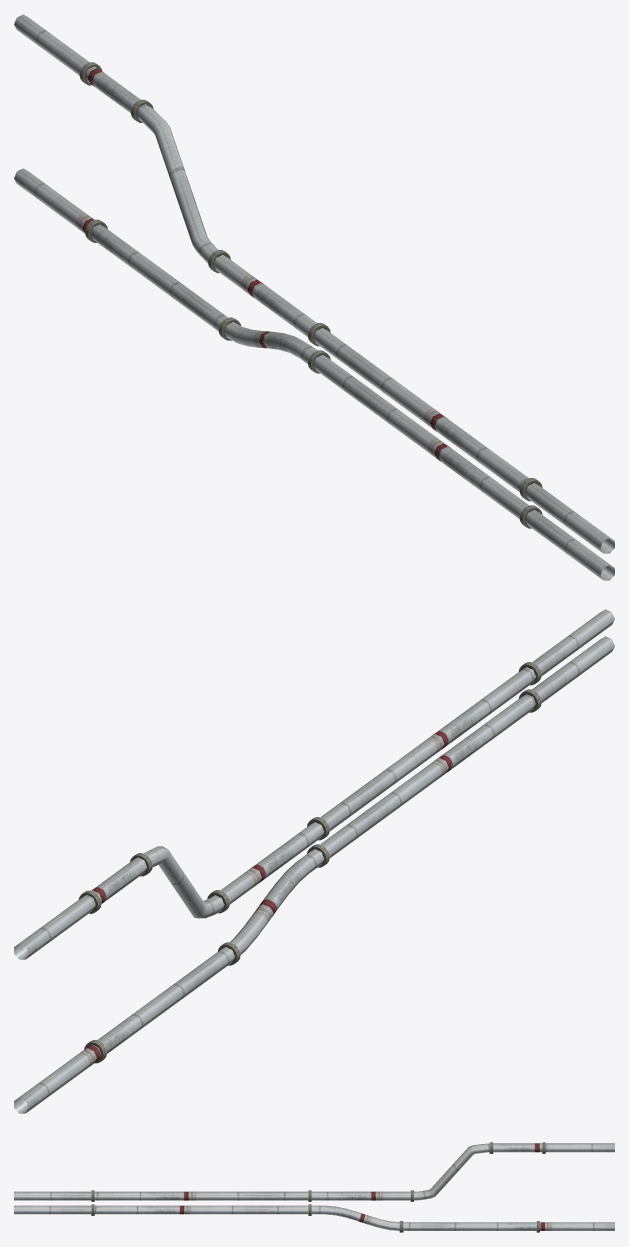
Rendered from EQP_PIPES018.FBX.
3 views of the same model, one above another, from view 1: azimuth 30°, elevation 25°; view 2: azimuth 150°, elevation 25°; view 3: azimuth 270°, elevation 25° (orthographic). The views are drawn at different scales.
Parts seen in each view (by area): view 1: PIPES018; view 2: PIPES018; view 3: PIPES018.
Part boxes in pixels (x1,y1,x2,y2): PIPES018: (14,14,614,580); PIPES018: (14,609,614,1113); PIPES018: (14,1142,614,1232).
Bounding box in the file's own units: 10.08 × 84.97 × 519.
Materials: 1 (1 with a texture image).
